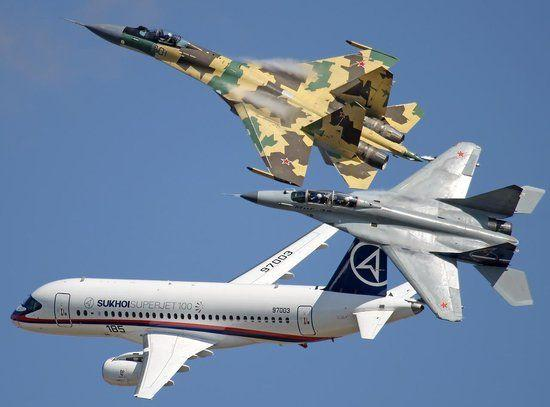airplane: (64, 14, 412, 189), (10, 256, 406, 401), (243, 141, 539, 305)
